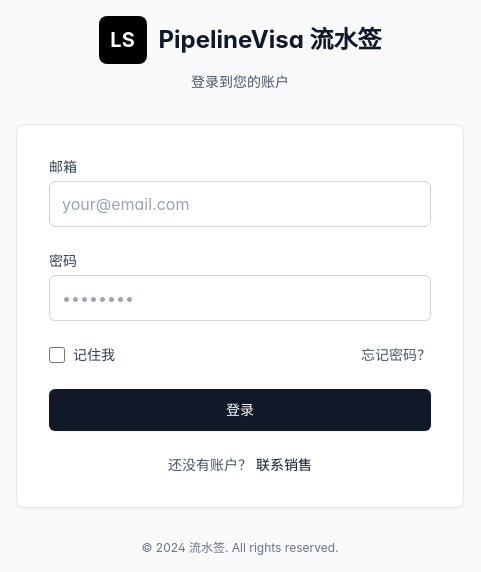
Test: LoginPage › shows loading state during login
Type "test@example.com" into the field labelled "邮箱" at [240, 204], box [49, 181, 431, 227]
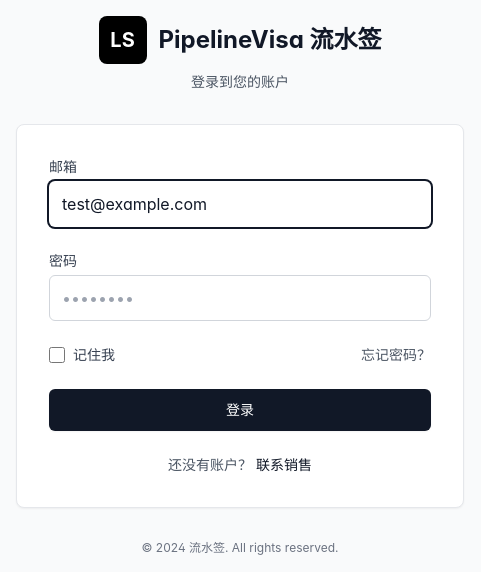
Type "password123" into the password field labelled "密码" at [240, 298], box [49, 275, 431, 321]
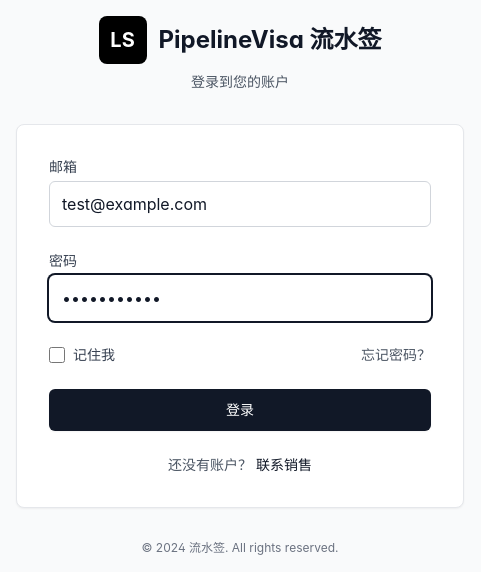
Click the button "登录" at [240, 410], box [49, 389, 431, 431]
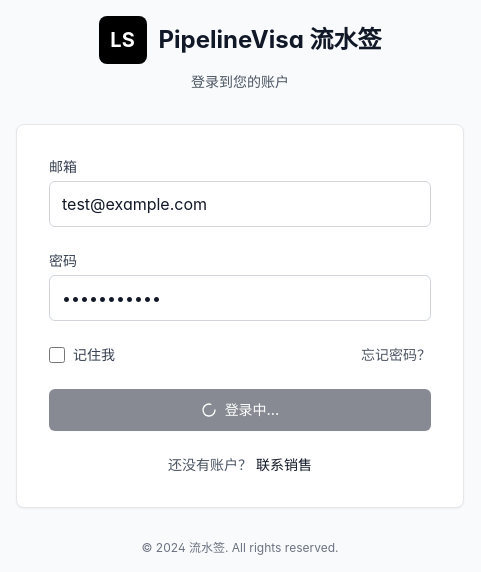
Expected: the button "登录中..." is disabled, [49, 389, 431, 431]
